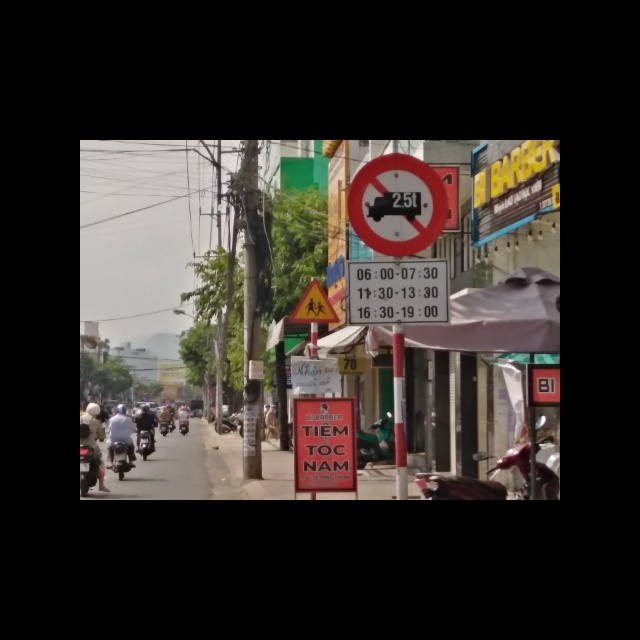Cấm xe tải: (344, 153, 451, 256)
Trẻ em ngang qua: (288, 278, 340, 324)
